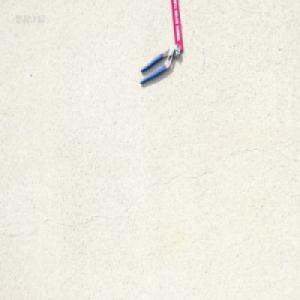Label: (170, 0, 184, 52)
Pliers: (139, 42, 181, 85)
